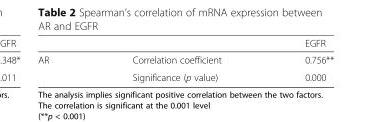table: (37, 37, 333, 82)
table column: (90, 37, 262, 82), (262, 37, 333, 82), (37, 37, 90, 82)
table column header: (37, 37, 333, 50)
table row: (37, 50, 333, 68), (37, 68, 333, 82), (37, 37, 333, 50)
table spanning cell: (37, 50, 90, 82)
